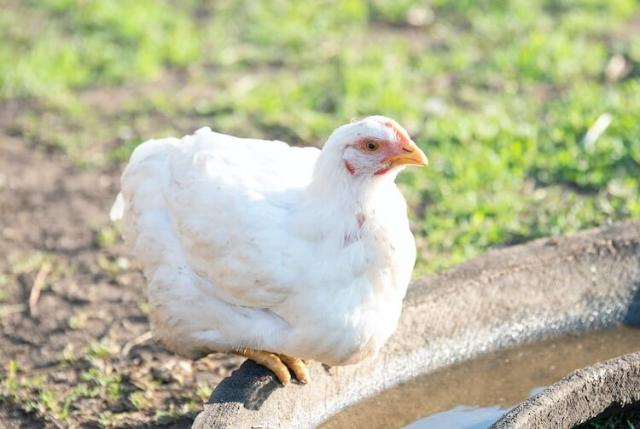Chicken: (110, 112, 432, 386)
